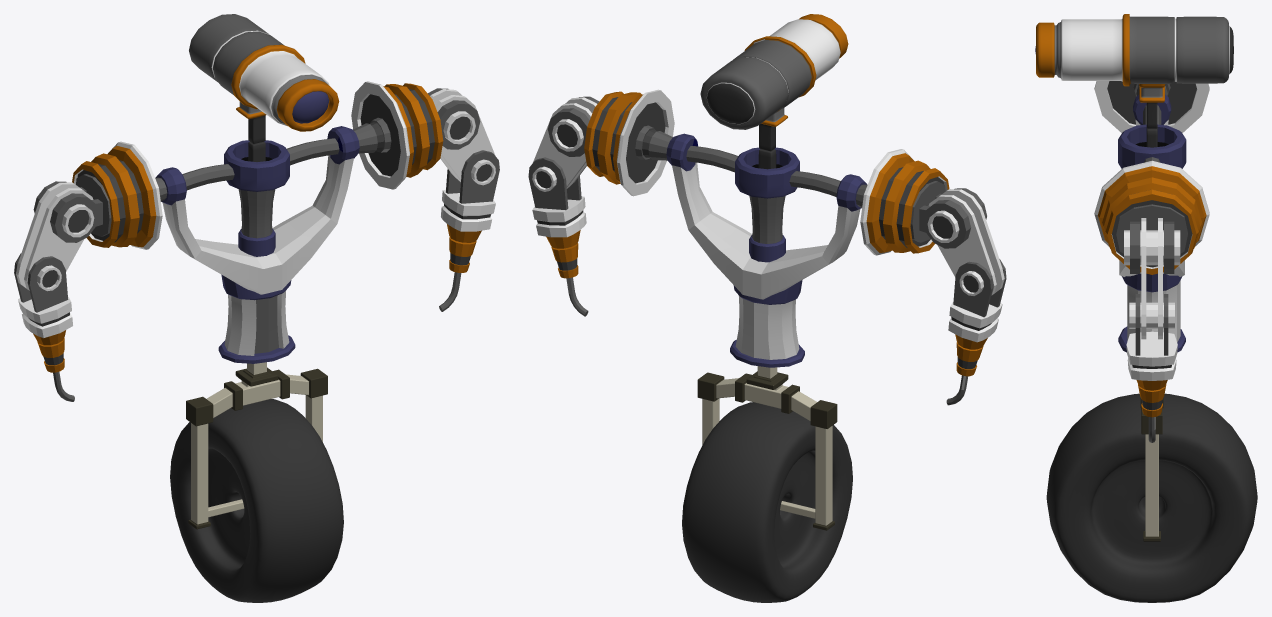
File: npcRobo3.fbx
3 views of the same model, side by side, from view 1: azimuth 30°, elevation 25°; view 2: azimuth 150°, elevation 25°; view 3: azimuth 270°, elevation 25° (orthographic). The views are drawn at different scales.
Visible parts, largest first — view 1: npcRobo3; view 2: npcRobo3; view 3: npcRobo3.
Part boxes in pixels (x1,y1,x2,y2): npcRobo3: (14, 14, 499, 602); npcRobo3: (528, 14, 1006, 602); npcRobo3: (1035, 14, 1257, 602).
Size of the model in its own units: 66.48 by 74.42 by 26.2.
